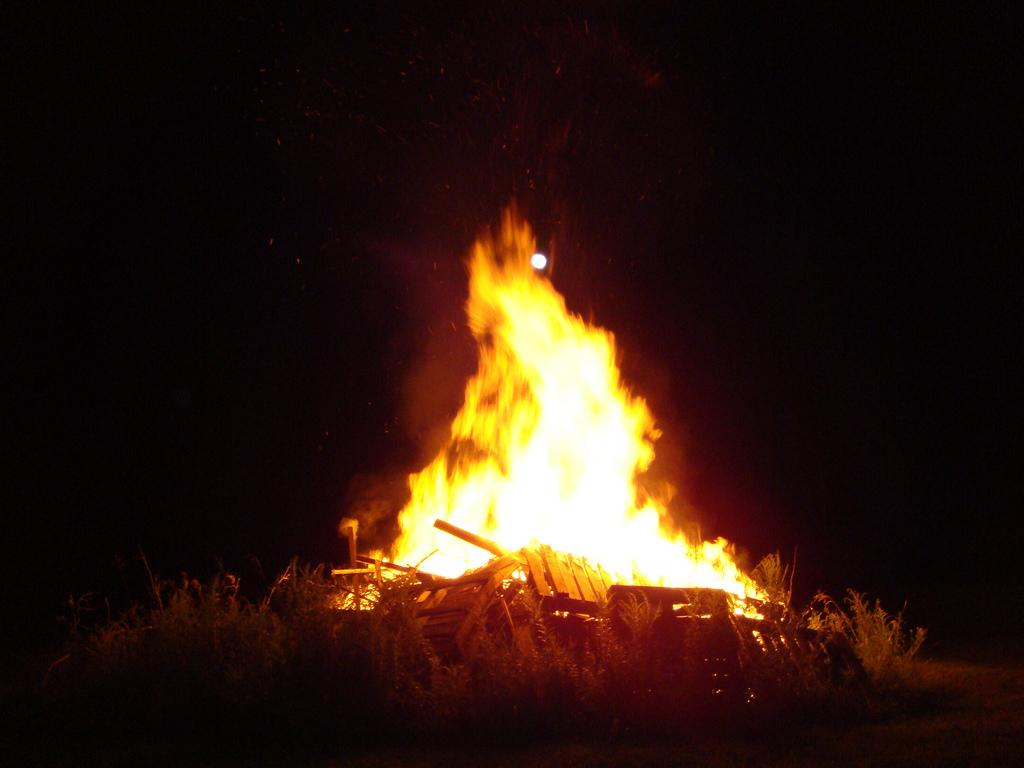fire: (532, 334, 620, 484), (450, 488, 640, 554)
